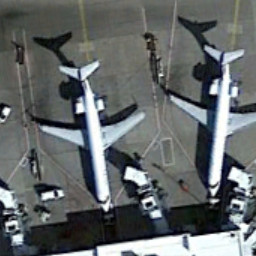Airplane: (31, 53, 150, 218), (164, 37, 256, 200)
